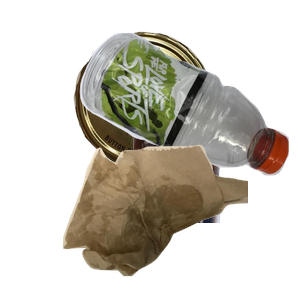glass: (29, 120, 242, 300)
metal: (71, 29, 276, 193)
plastic: (77, 30, 300, 198)
trash: (60, 142, 300, 300)
